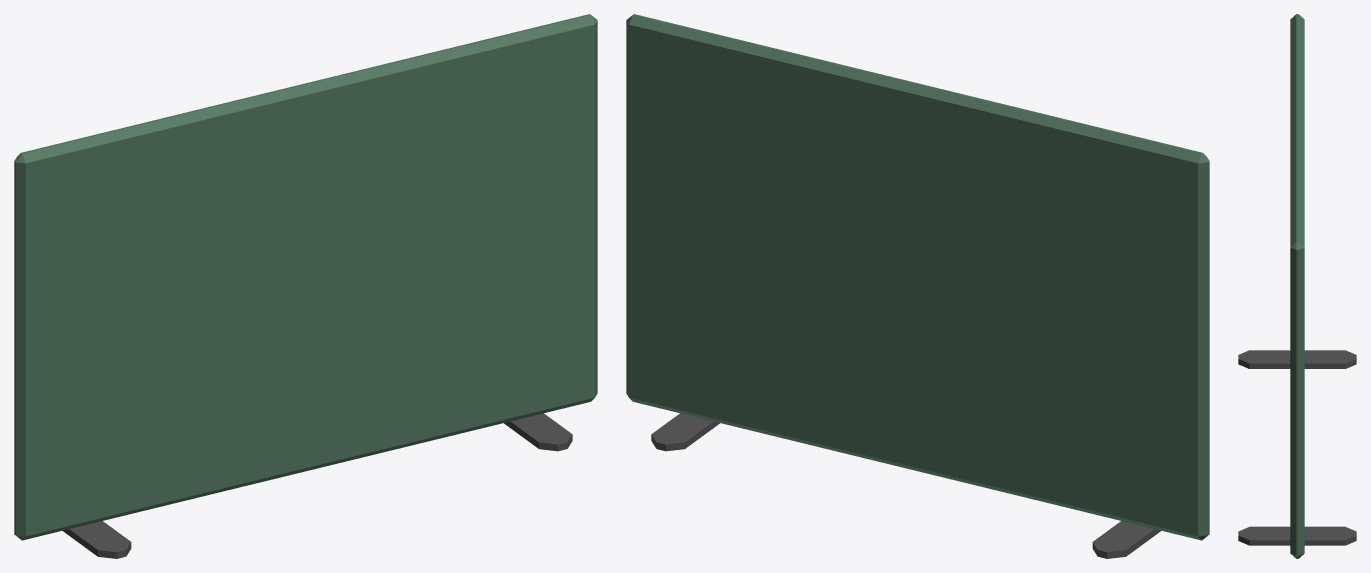
The model's file is Skillevæg_1.fbx.
3 renders of one model, left to right at view 1: azimuth 30°, elevation 25°; view 2: azimuth 150°, elevation 25°; view 3: azimuth 270°, elevation 25°, orthographic. The views are drawn at different scales.
Visible parts, largest first — view 1: Skillevæg_G, SkillevægFødder_G; view 2: Skillevæg_G, SkillevægFødder_G; view 3: Skillevæg_G, SkillevægFødder_G.
Boxes of the visible parts, x1,y1,x2,y2 form: Skillevæg_G: [14, 14, 597, 540]; SkillevægFødder_G: [62, 413, 572, 558]; Skillevæg_G: [626, 14, 1209, 540]; SkillevægFødder_G: [651, 413, 1161, 558]; Skillevæg_G: [1290, 14, 1304, 558]; SkillevægFødder_G: [1238, 350, 1356, 545].
Size of the model in its own units: 402 by 260 by 86.51.
